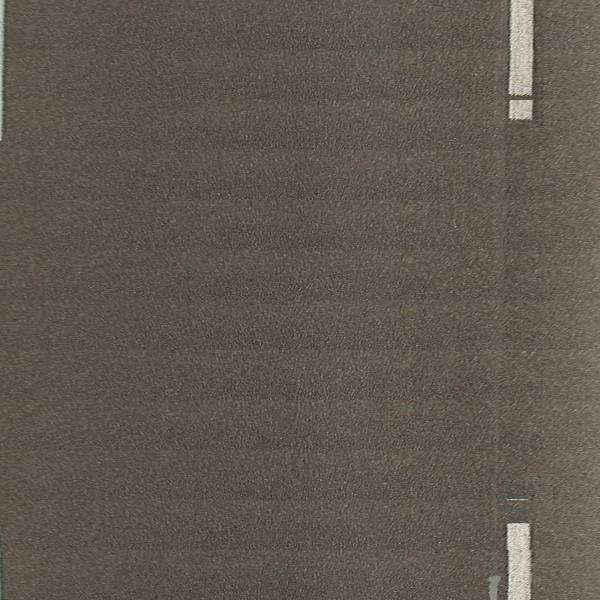road_damage: (481, 568, 502, 600)
